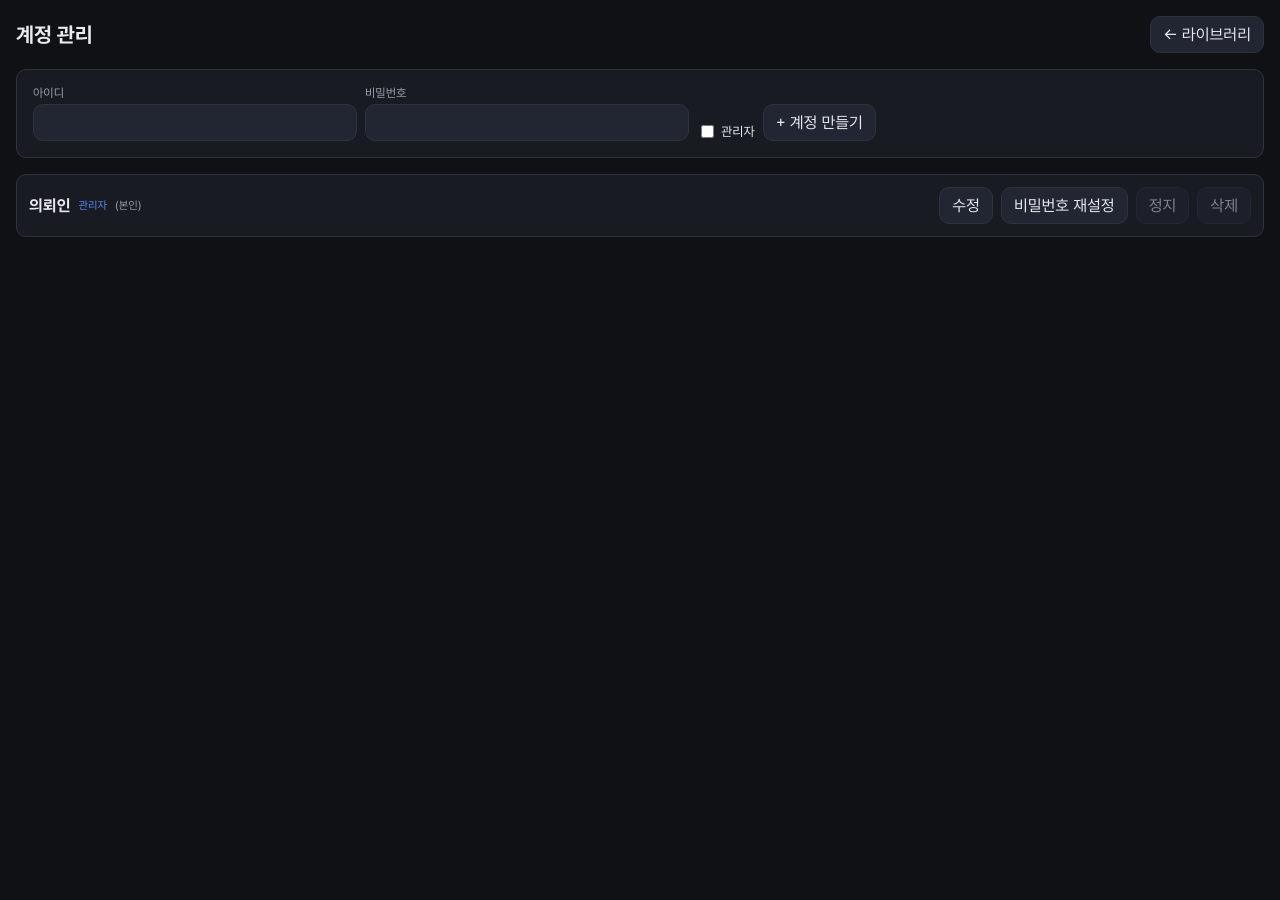
AdminScreen › 새 계정을 만들면 목록을 다시 불러온다
The image size is (1280, 900).
Expected: the text "의뢰인" is shown, [29, 196, 70, 215]
Type "새친구" into the field labelled "아이디".
click(195, 122); type("새친구")  # box [33, 104, 357, 141]
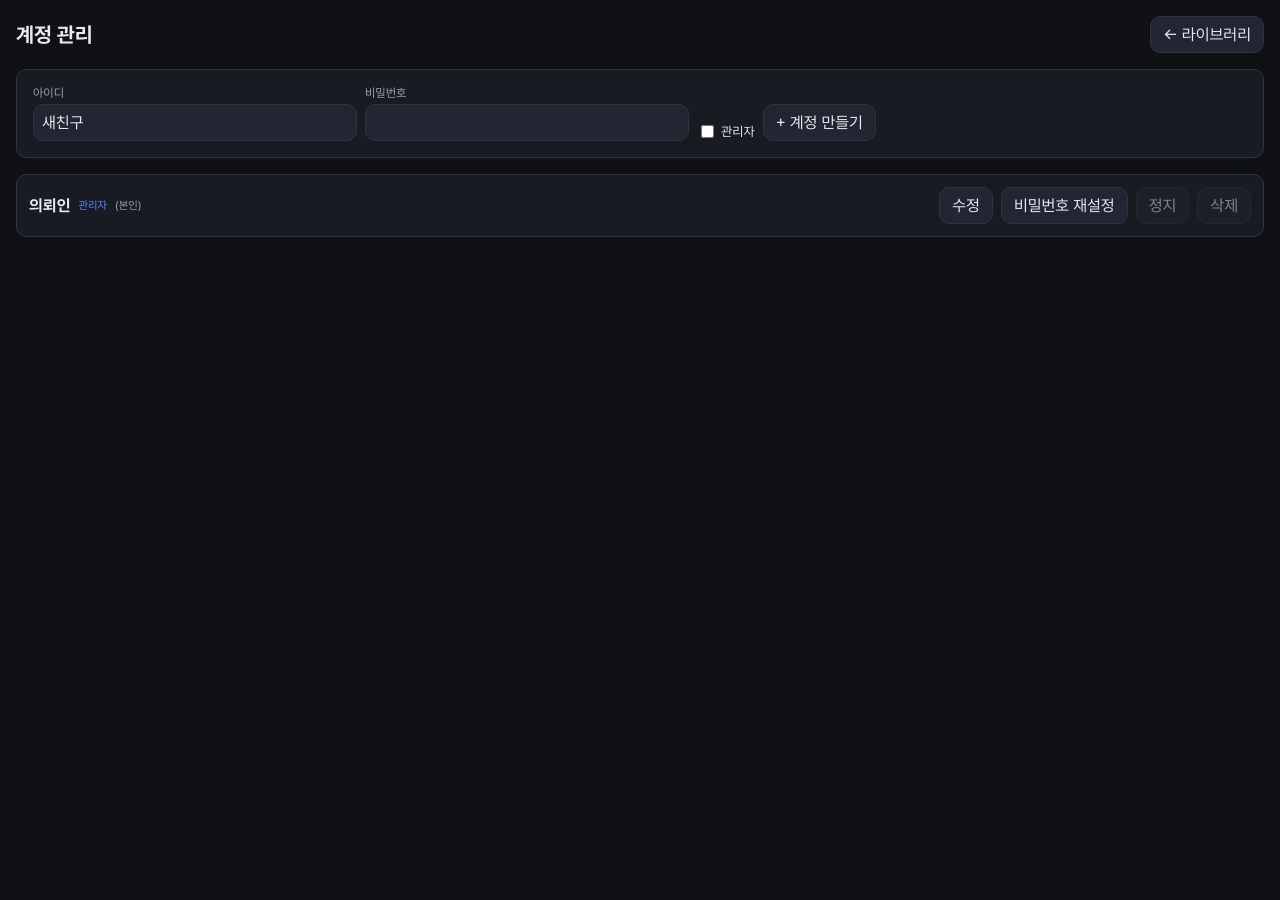
Type "pw1234" into the password field labelled "비밀번호".
click(527, 122); type("pw1234")  # box [365, 104, 689, 141]
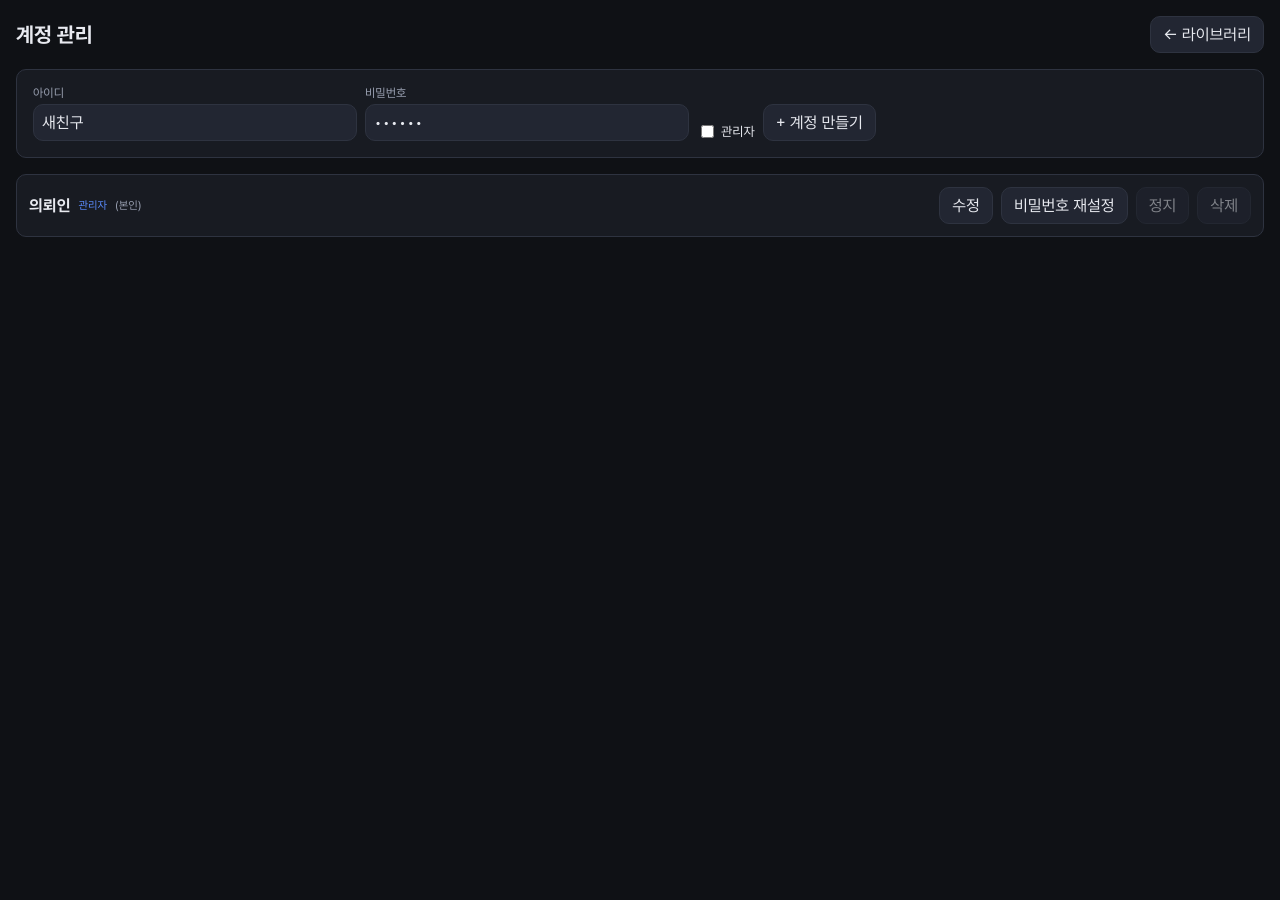
Click the button "+ 계정 만들기".
click(819, 122)  # box [763, 104, 876, 141]
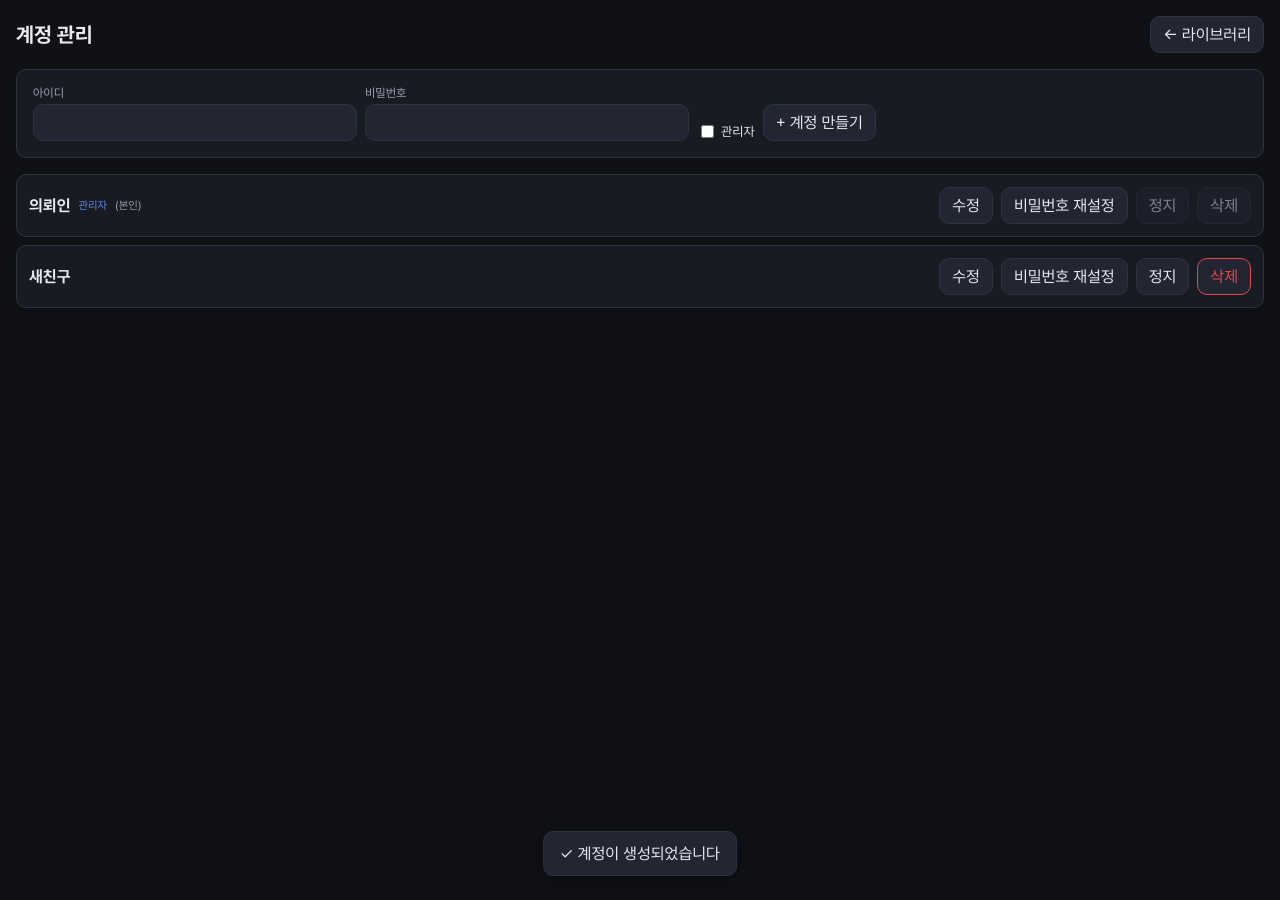
Expected: the text "새친구" is shown, [29, 267, 70, 286]
